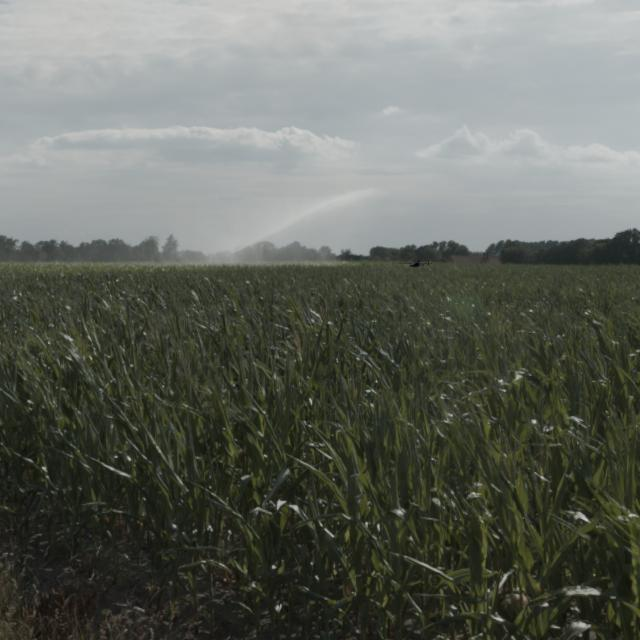Airaplan: (396, 260, 437, 267)
